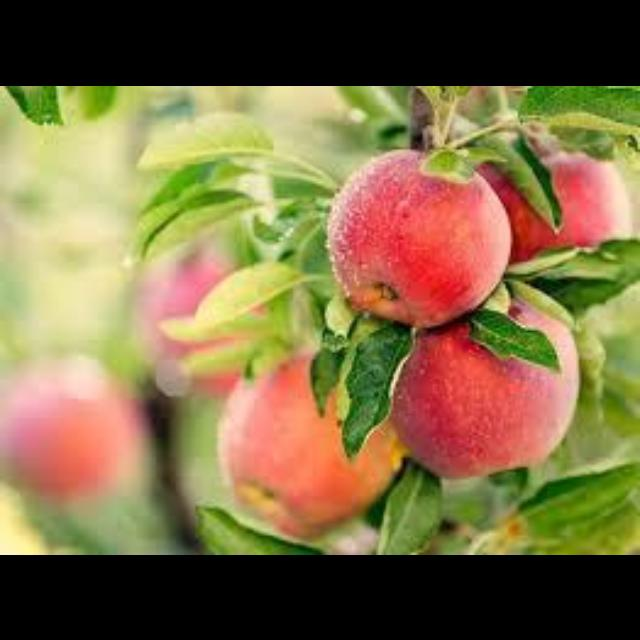apple: (217, 354, 398, 537), (391, 298, 576, 476), (327, 149, 511, 324), (481, 151, 630, 258), (0, 381, 139, 495), (137, 251, 235, 368), (193, 366, 239, 395)
